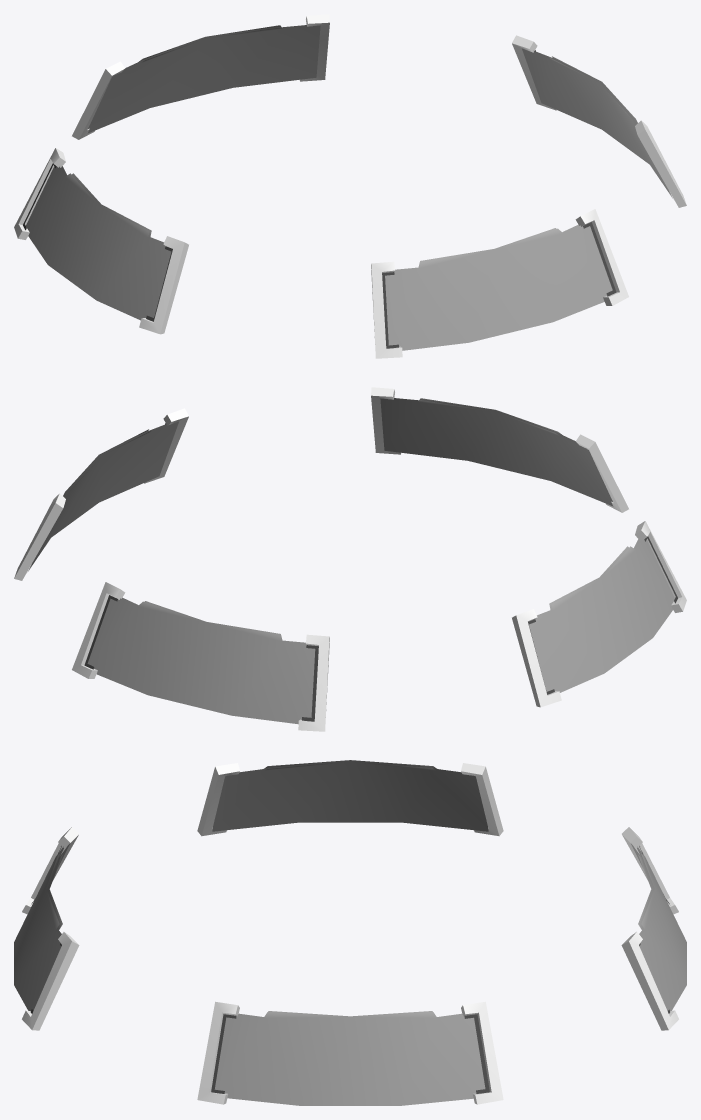
The model's file is platform_screens.fbx.
3 views of the same model, one above another, from view 1: azimuth 30°, elevation 25°; view 2: azimuth 150°, elevation 25°; view 3: azimuth 270°, elevation 25° (orthographic). The views are drawn at different scales.
Visible parts, largest first — view 1: platform_screens; view 2: platform_screens; view 3: platform_screens.
Boxes of the visible parts, x1,y1,x2,y2 form: platform_screens: (14, 14, 686, 358); platform_screens: (14, 387, 686, 731); platform_screens: (14, 760, 686, 1105).
Bounding box in the file's own units: 2.54 × 0.3494 × 2.54.
